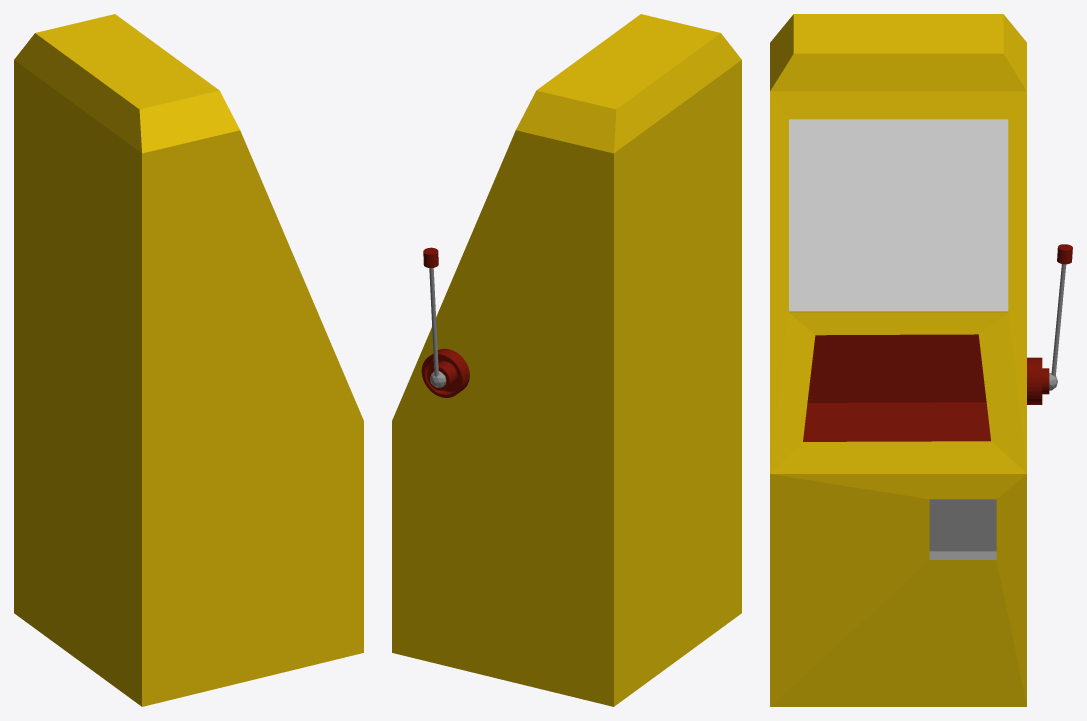
File: NewSlot.fbx
3 renders of one model, left to right at view 1: azimuth 30°, elevation 25°; view 2: azimuth 150°, elevation 25°; view 3: azimuth 270°, elevation 25°, orthographic.
Visible parts, largest first — view 1: Cube; view 2: Cube; view 3: Cube.
Part boxes in pixels (x1,y1,x2,y2): Cube: [14, 14, 363, 706]; Cube: [392, 14, 741, 706]; Cube: [770, 14, 1072, 706].
Bounding box in the file's own units: 202 × 505 × 236.
